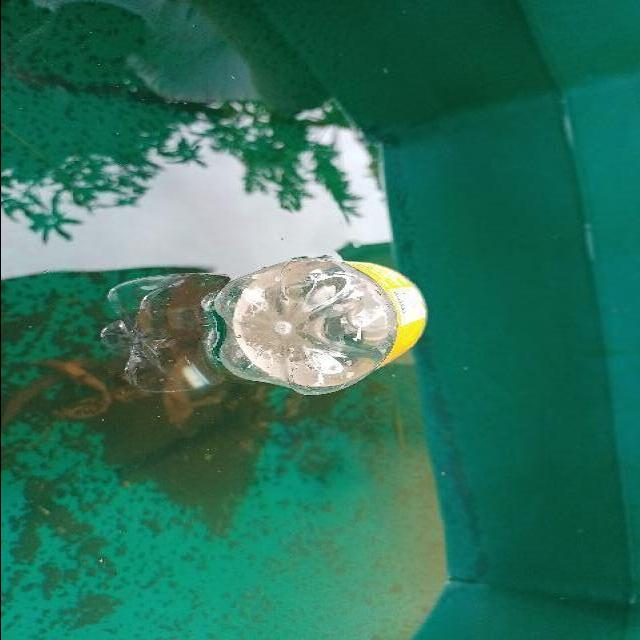Bottle: (195, 245, 438, 408)
